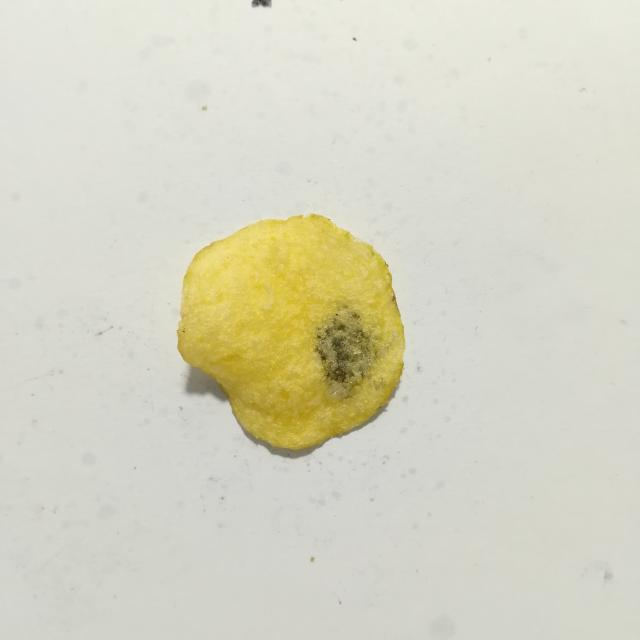chip: (177, 214, 405, 449)
semi-damaged: (316, 308, 387, 399)
